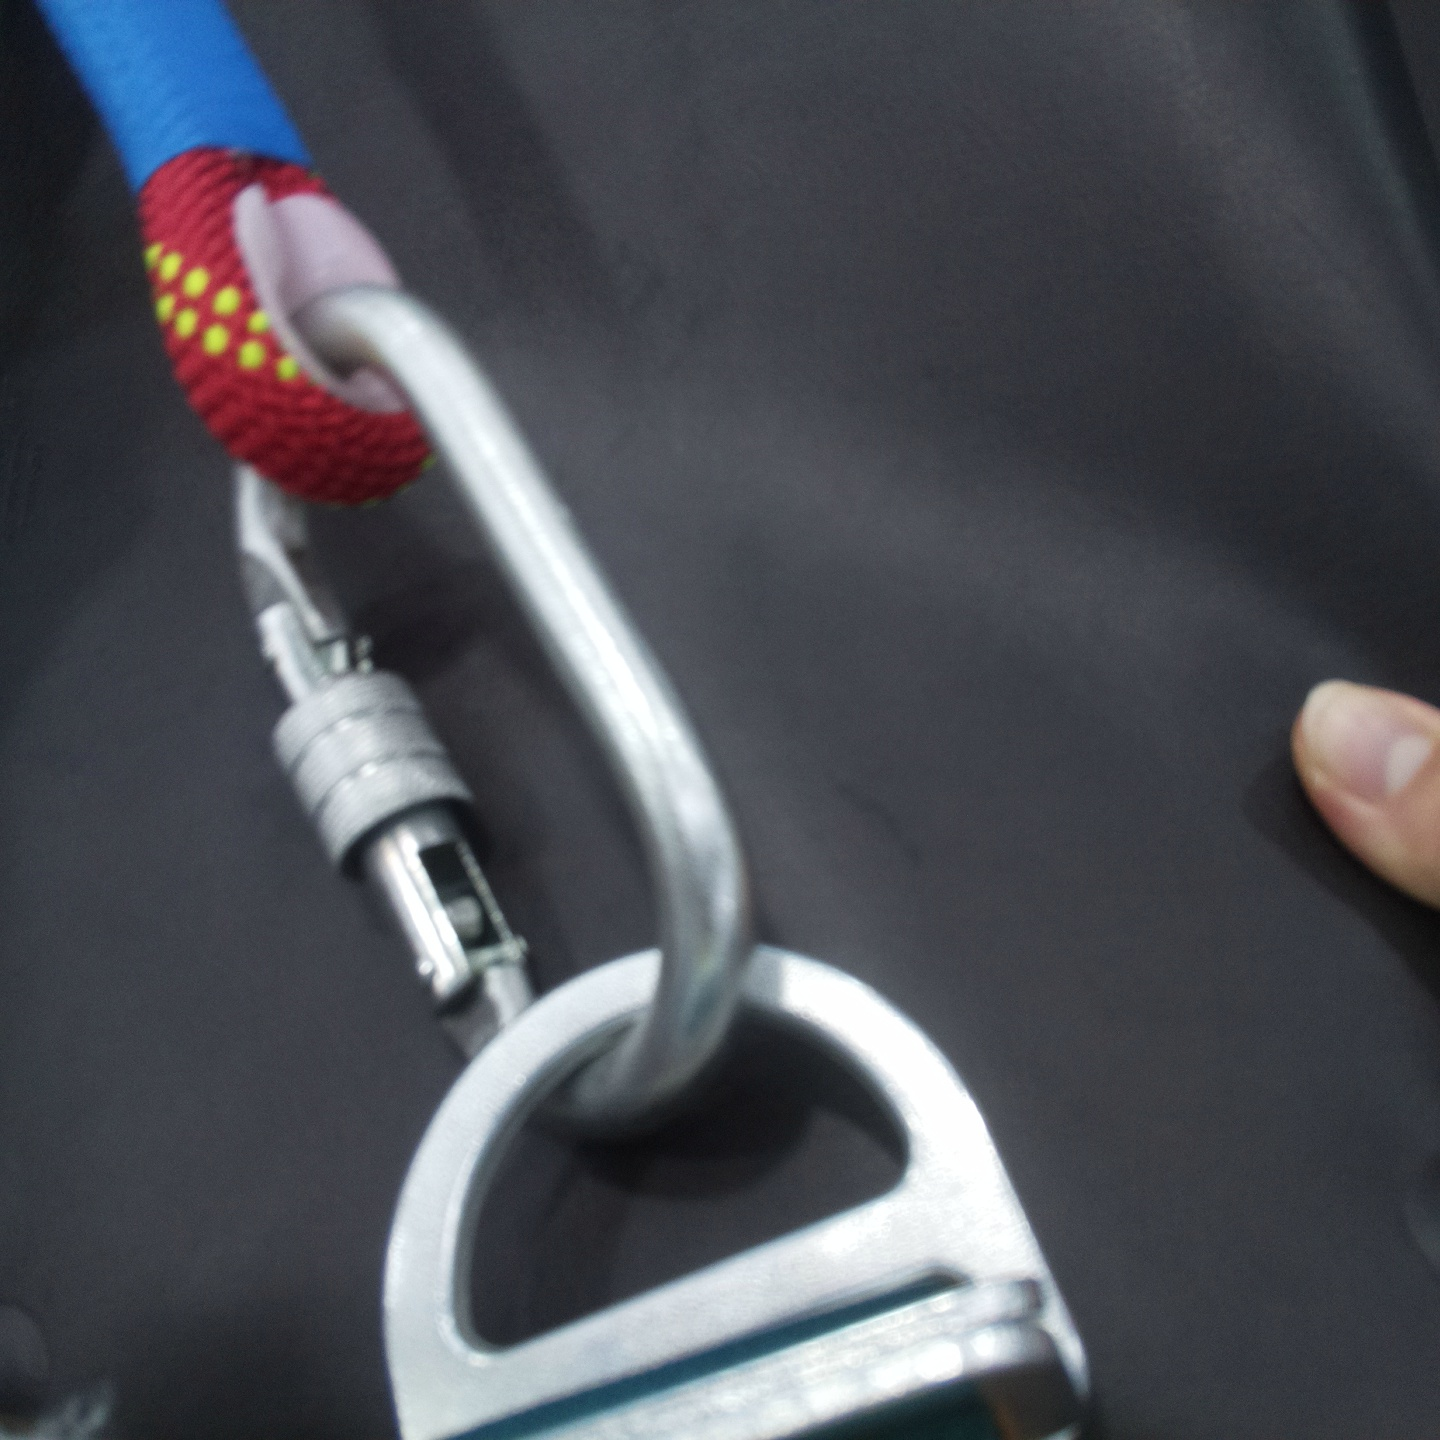SUCCESS: (223, 670, 1088, 1393)
